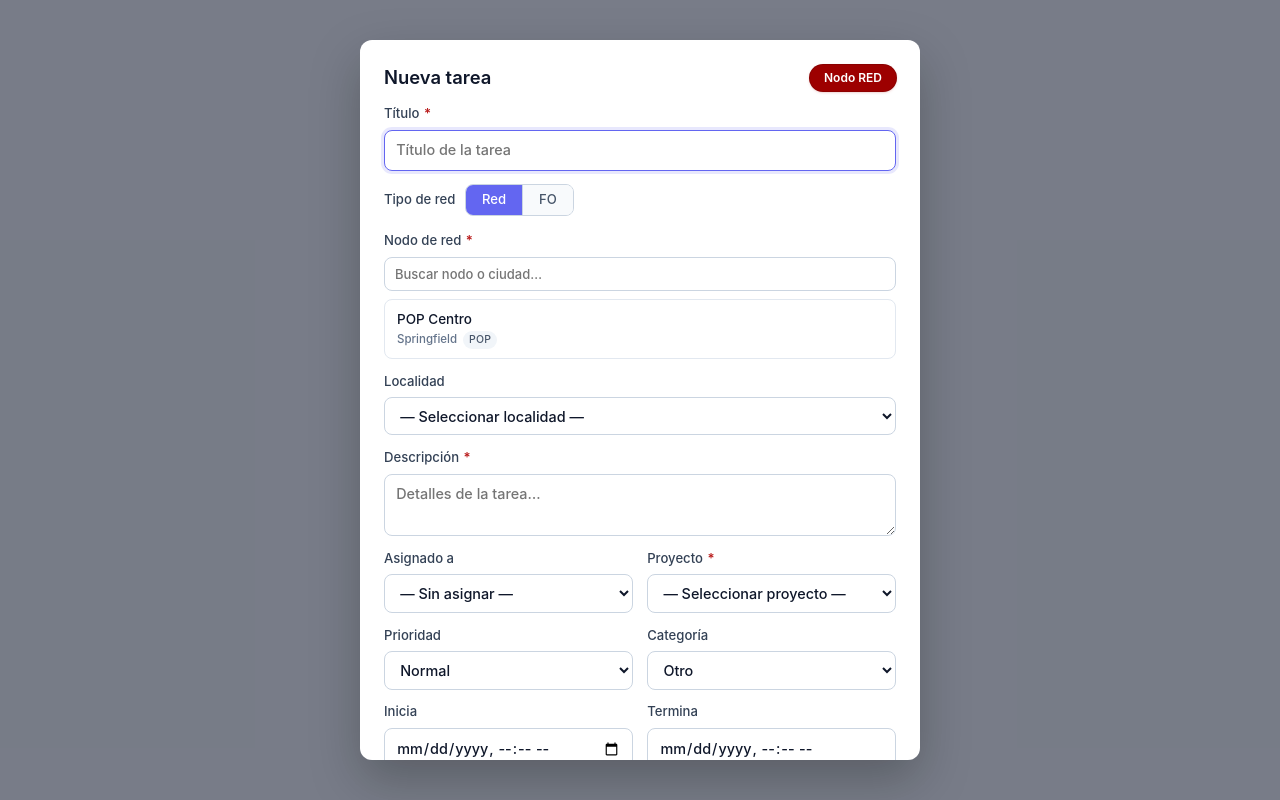
Test: CreateTaskModal address required in network mode (REQ-53) › disables "Crear tarea" when a node is selected but address is cleared
Type "Tarea nodo" into the field with placeholder "Título de la tarea" at (640, 150), box [384,130,896,171]
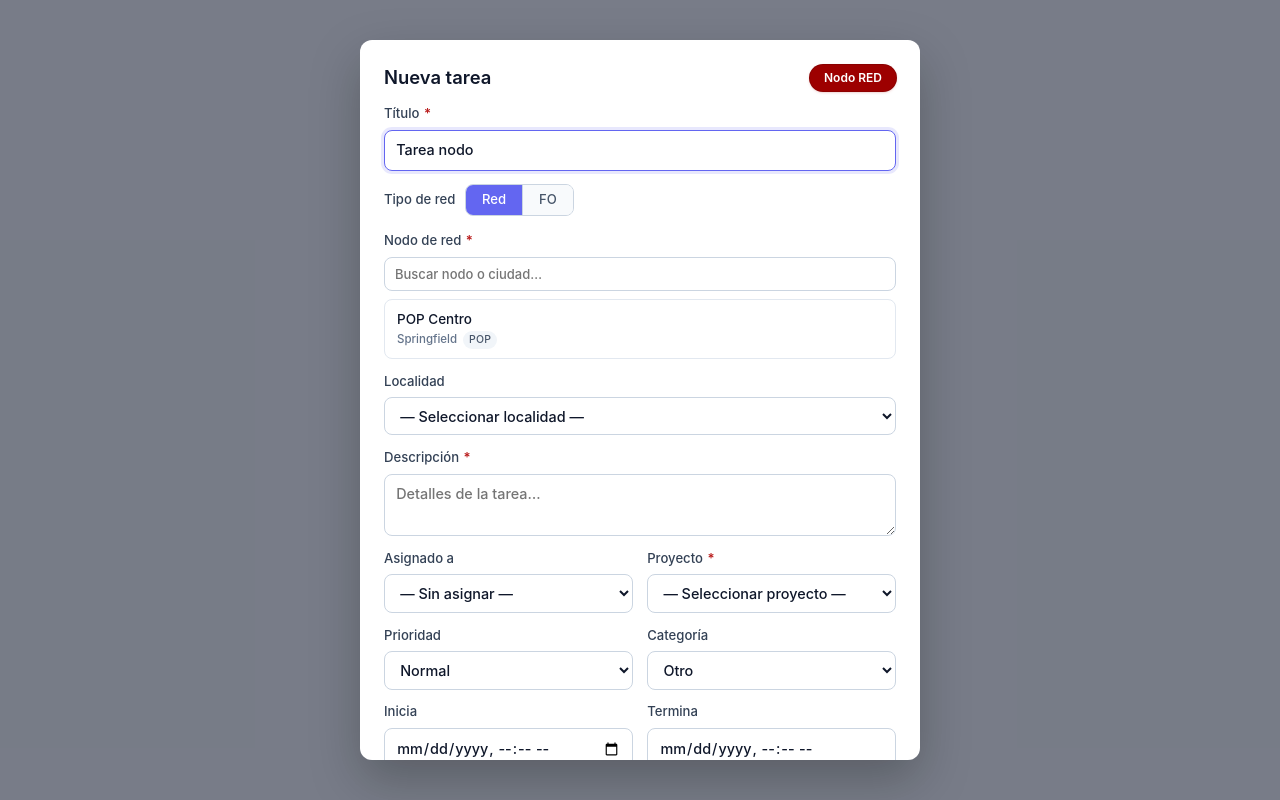
Type "Descripción" into the text box with placeholder "Detalles de la tarea…" at (640, 505), box [384,474,896,536]
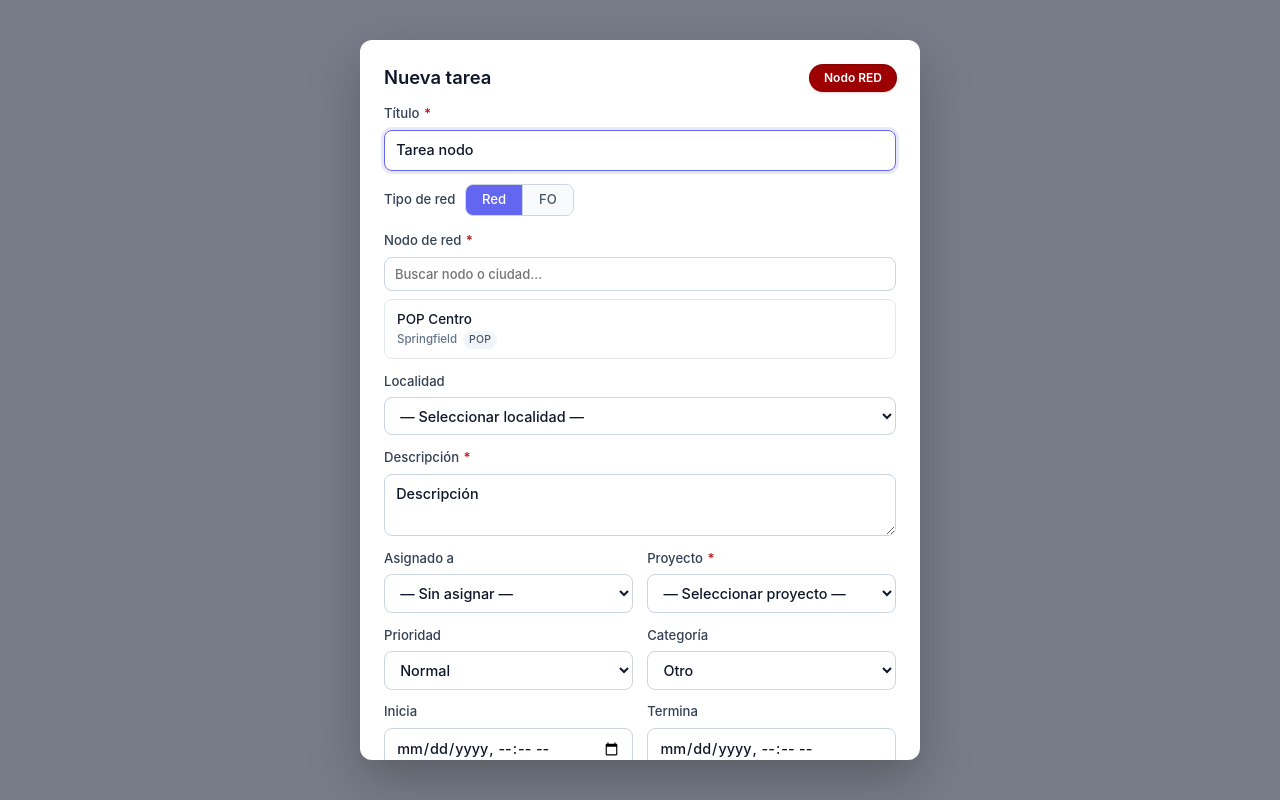
Select "RED - FIBRA" in the dropdown labelled "Proyecto *" at (772, 594), box [647,574,896,613]
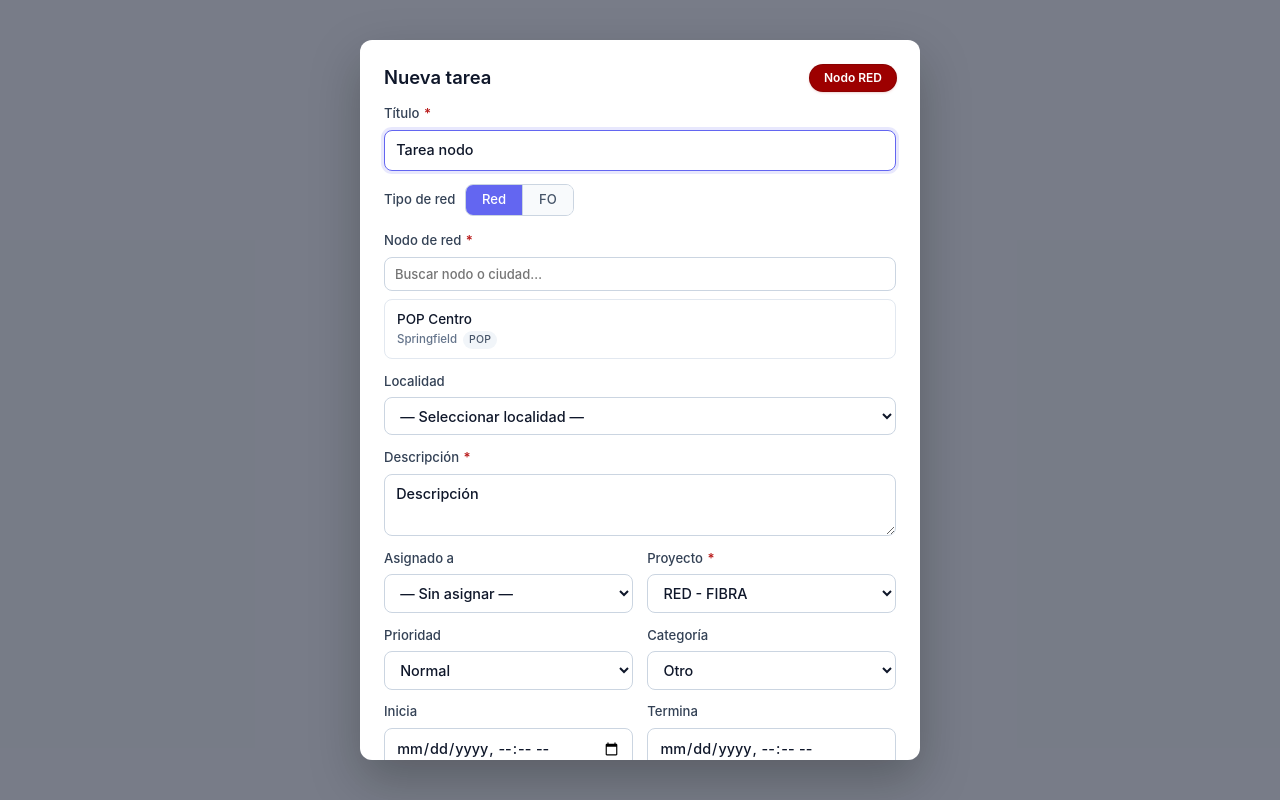
Click the text "POP Centro" at (434, 319), box [397,311,472,327]
(page scrolled)
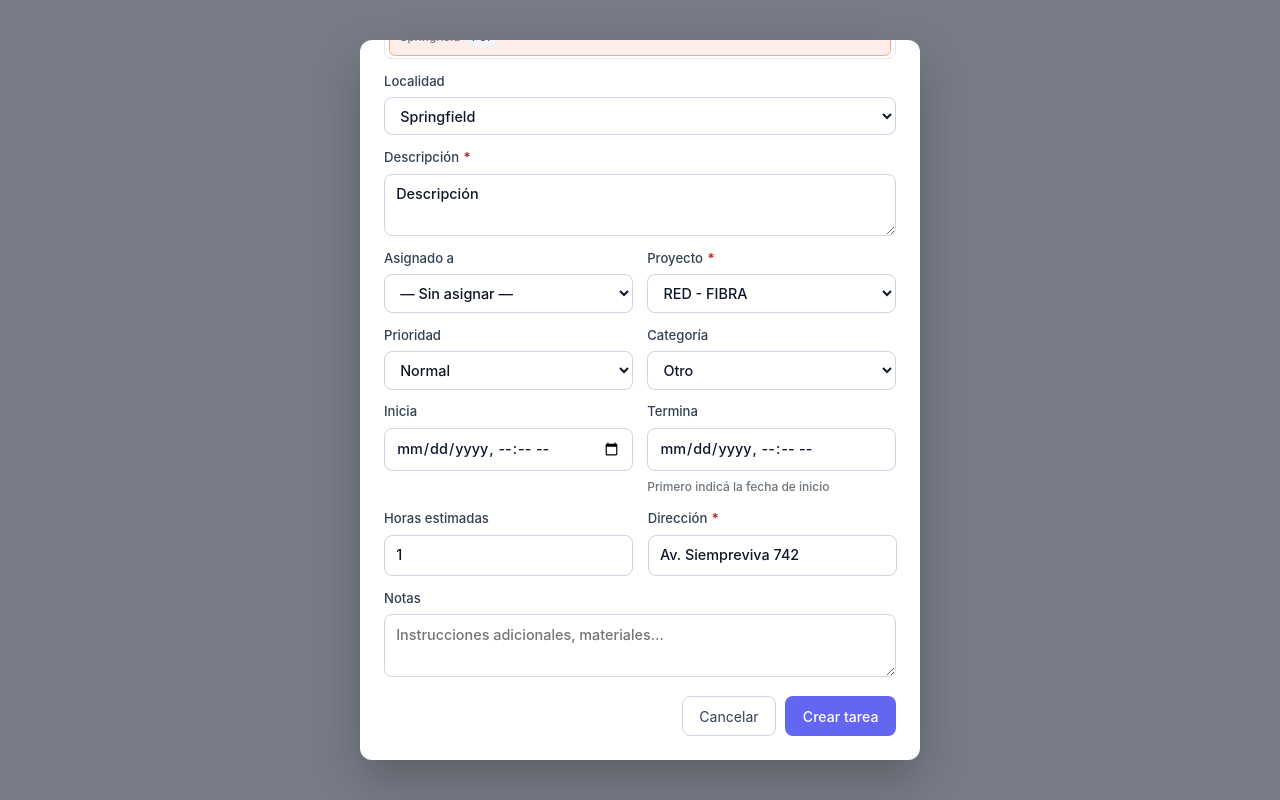
Check: the field with placeholder "Dirección del trabajo" holds "Av. Siempreviva 742"
Clear the field with placeholder "Dirección del trabajo" at (772, 555), box [648,535,897,576]
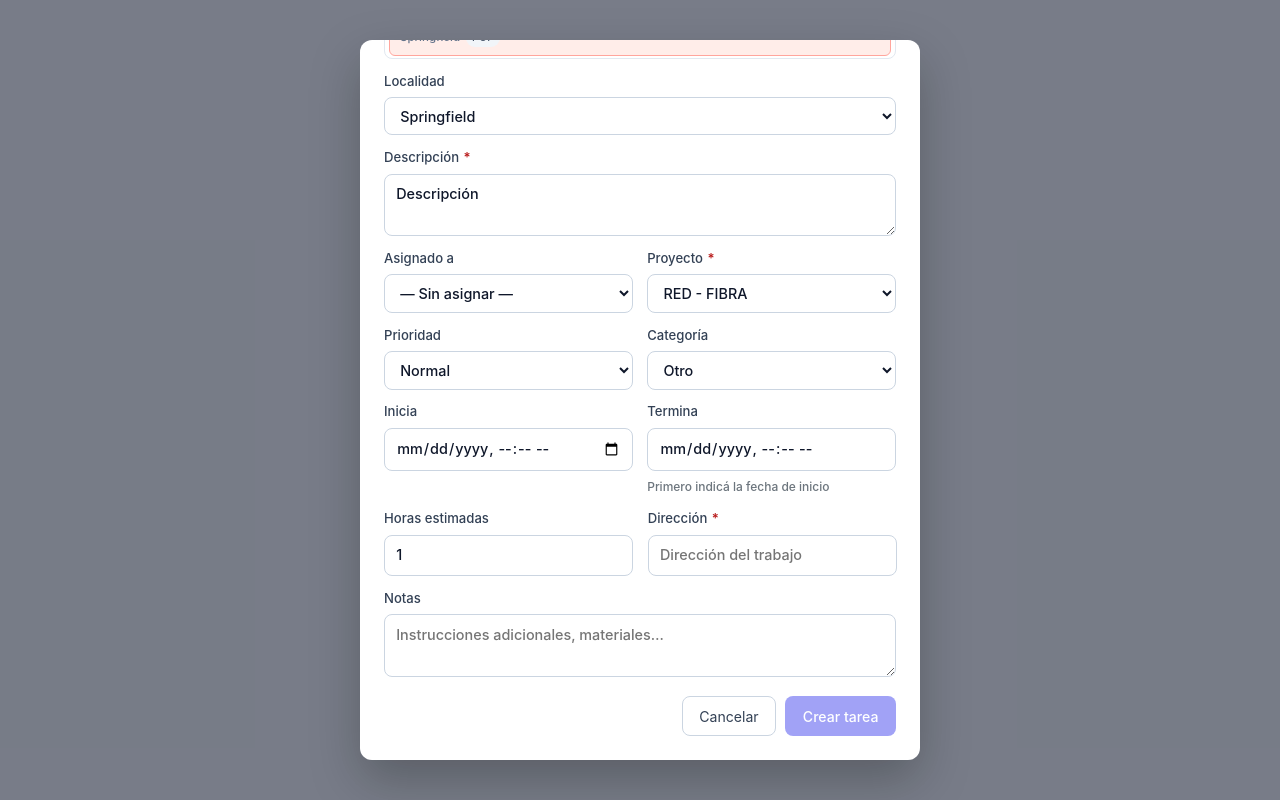
Check: the button "Crear tarea" is disabled, box [785,696,896,736]
